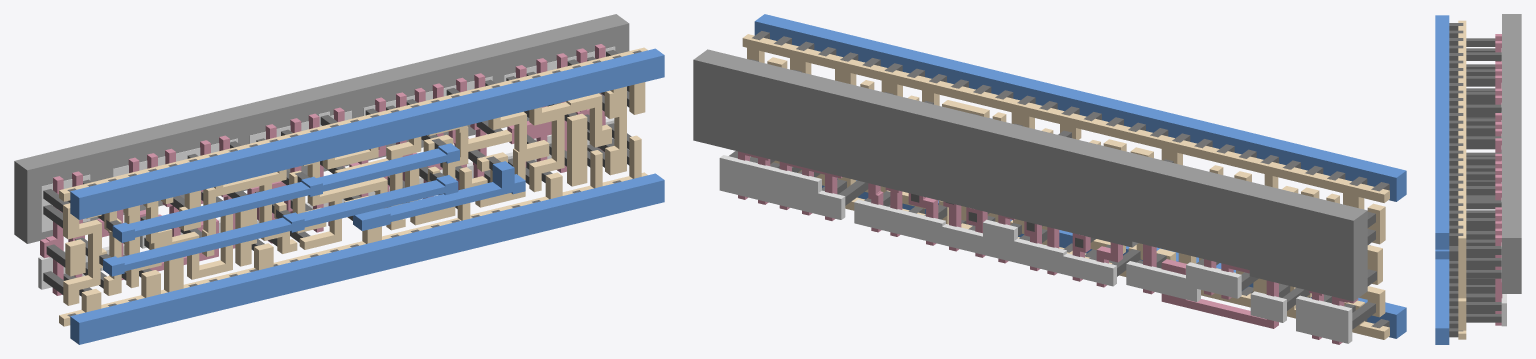
File: sky130_fd_sc_hd__sdfrbp_2.gds.gltf
3 renders of one model, left to right at view 1: azimuth 30°, elevation 25°; view 2: azimuth 150°, elevation 25°; view 3: azimuth 270°, elevation 25°, orthographic. The views are drawn at different scales.
Parts seen in each view (by area): view 1: sky130_fd_sc_hd__sdfrbp_2_met1, sky130_fd_sc_hd__sdfrbp_2_li1, sky130_fd_sc_hd__sdfrbp_2_nwell, sky130_fd_sc_hd__sdfrbp_2_poly, sky130_fd_sc_hd__sdfrbp_2_licon, sky130_fd_sc_hd__sdfrbp_2_diff, sky130_fd_sc_hd__sdfrbp_2_mcon; view 2: sky130_fd_sc_hd__sdfrbp_2_nwell, sky130_fd_sc_hd__sdfrbp_2_diff, sky130_fd_sc_hd__sdfrbp_2_li1, sky130_fd_sc_hd__sdfrbp_2_met1, sky130_fd_sc_hd__sdfrbp_2_poly, sky130_fd_sc_hd__sdfrbp_2_mcon, sky130_fd_sc_hd__sdfrbp_2_licon; view 3: sky130_fd_sc_hd__sdfrbp_2_licon, sky130_fd_sc_hd__sdfrbp_2_nwell, sky130_fd_sc_hd__sdfrbp_2_met1, sky130_fd_sc_hd__sdfrbp_2_mcon, sky130_fd_sc_hd__sdfrbp_2_li1, sky130_fd_sc_hd__sdfrbp_2_poly, sky130_fd_sc_hd__sdfrbp_2_diff.
Boxes of the visible parts, <box> form: sky130_fd_sc_hd__sdfrbp_2_met1: <box>70,48,664,344</box>; sky130_fd_sc_hd__sdfrbp_2_li1: <box>59,47,647,326</box>; sky130_fd_sc_hd__sdfrbp_2_nwell: <box>14,14,629,243</box>; sky130_fd_sc_hd__sdfrbp_2_poly: <box>40,44,605,295</box>; sky130_fd_sc_hd__sdfrbp_2_licon: <box>43,50,631,296</box>; sky130_fd_sc_hd__sdfrbp_2_diff: <box>38,46,615,289</box>; sky130_fd_sc_hd__sdfrbp_2_mcon: <box>67,50,641,316</box>; sky130_fd_sc_hd__sdfrbp_2_nwell: <box>693,49,1367,301</box>; sky130_fd_sc_hd__sdfrbp_2_diff: <box>719,155,1352,343</box>; sky130_fd_sc_hd__sdfrbp_2_li1: <box>742,34,1389,339</box>; sky130_fd_sc_hd__sdfrbp_2_met1: <box>754,14,1406,338</box>; sky130_fd_sc_hd__sdfrbp_2_poly: <box>738,151,1358,344</box>; sky130_fd_sc_hd__sdfrbp_2_mcon: <box>752,31,1389,328</box>; sky130_fd_sc_hd__sdfrbp_2_licon: <box>729,59,1376,329</box>; sky130_fd_sc_hd__sdfrbp_2_licon: <box>1466,38,1501,322</box>; sky130_fd_sc_hd__sdfrbp_2_nwell: <box>1502,14,1521,293</box>; sky130_fd_sc_hd__sdfrbp_2_met1: <box>1435,15,1449,344</box>; sky130_fd_sc_hd__sdfrbp_2_mcon: <box>1449,23,1463,337</box>; sky130_fd_sc_hd__sdfrbp_2_li1: <box>1458,20,1466,339</box>; sky130_fd_sc_hd__sdfrbp_2_poly: <box>1495,34,1502,325</box>; sky130_fd_sc_hd__sdfrbp_2_diff: <box>1501,48,1506,326</box>.
Size of the model in its own units: 13.72 by 3.2 by 2.24.
